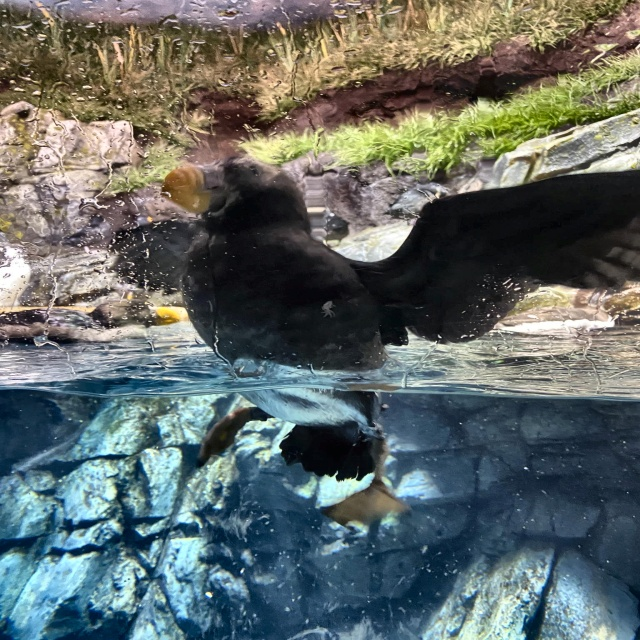puffin: (106, 141, 639, 528), (0, 296, 183, 351)
